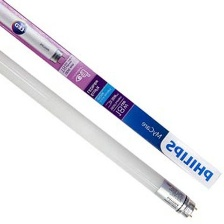book: (0, 0, 221, 190)
light_bulb: (0, 47, 199, 220)
